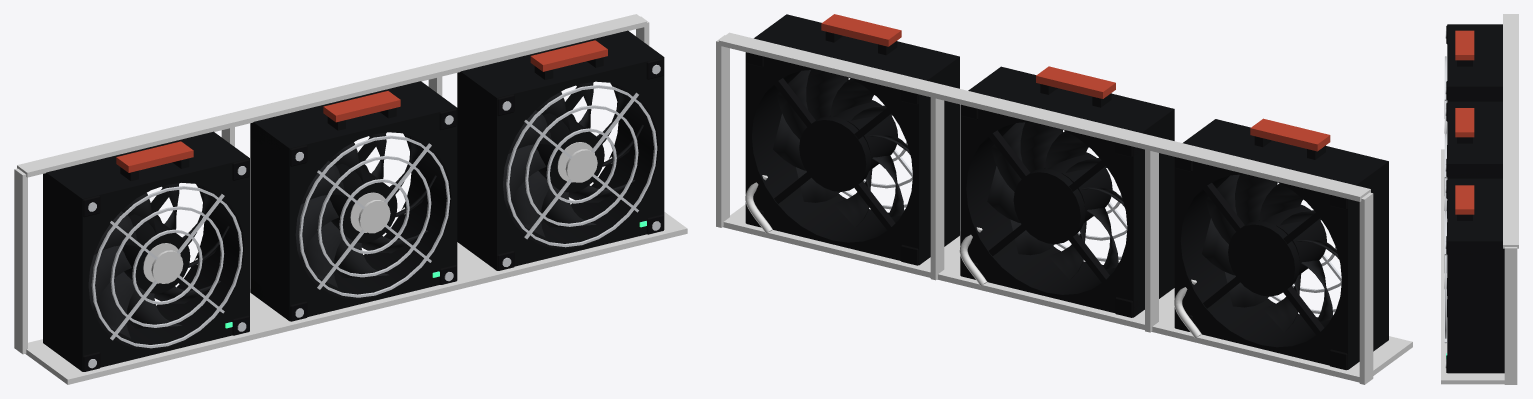
Rendered from hwm_cool_box_40mm.glb.
The picture shows the model from 3 angles, left to right: view 1: azimuth 30°, elevation 25°; view 2: azimuth 150°, elevation 25°; view 3: azimuth 270°, elevation 25°; orthographic projection. The views are drawn at different scales.
Visible parts, largest first — view 1: Body, Rotor_Z_2, Rotor_Z_0, Rotor_Z_1; view 2: Body, Rotor_Z_1, Rotor_Z_2, Rotor_Z_0; view 3: Body.
Boxes of the visible parts, x1,y1,x2,y2 form: Body: (14, 14, 687, 384); Rotor_Z_2: (503, 82, 643, 237); Rotor_Z_0: (88, 183, 229, 338); Rotor_Z_1: (295, 132, 436, 287); Body: (716, 14, 1412, 384); Rotor_Z_1: (987, 122, 1124, 279); Rotor_Z_2: (773, 69, 910, 227); Rotor_Z_0: (1202, 174, 1338, 332); Body: (1441, 14, 1518, 384).
Bounding box in the file's own units: 0.3478 × 0.1033 × 0.049.
